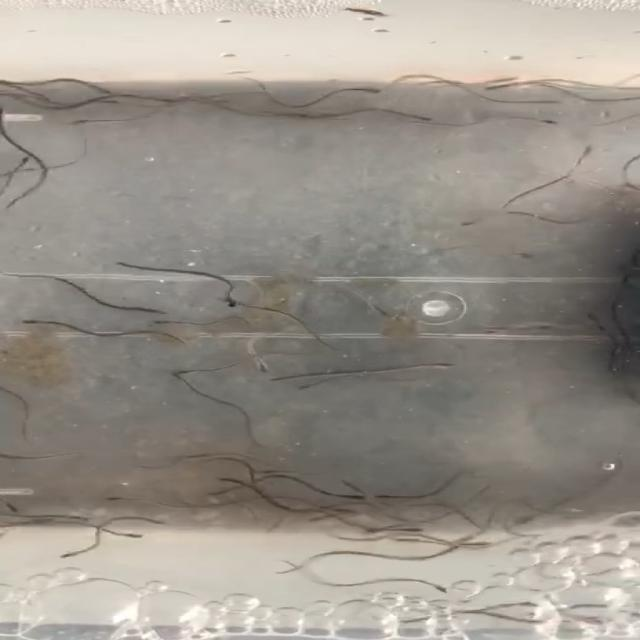active_glass_eel: (469, 537, 509, 555), (188, 484, 230, 501), (444, 212, 484, 229), (228, 434, 276, 448), (424, 356, 459, 374), (120, 530, 156, 546), (164, 363, 202, 377), (581, 303, 604, 325), (98, 486, 121, 506), (138, 514, 167, 529), (6, 502, 28, 520), (248, 359, 278, 372), (208, 474, 242, 485), (288, 383, 324, 393), (532, 320, 554, 336), (397, 521, 422, 535), (330, 475, 359, 487), (412, 111, 436, 125), (140, 317, 170, 328), (356, 86, 383, 98), (302, 513, 336, 522), (482, 81, 502, 95), (430, 584, 453, 596), (544, 112, 561, 128), (226, 295, 244, 310), (142, 304, 168, 314), (175, 336, 193, 350), (74, 116, 92, 128), (54, 552, 81, 560), (359, 527, 378, 537), (102, 98, 122, 107), (580, 142, 596, 152)
